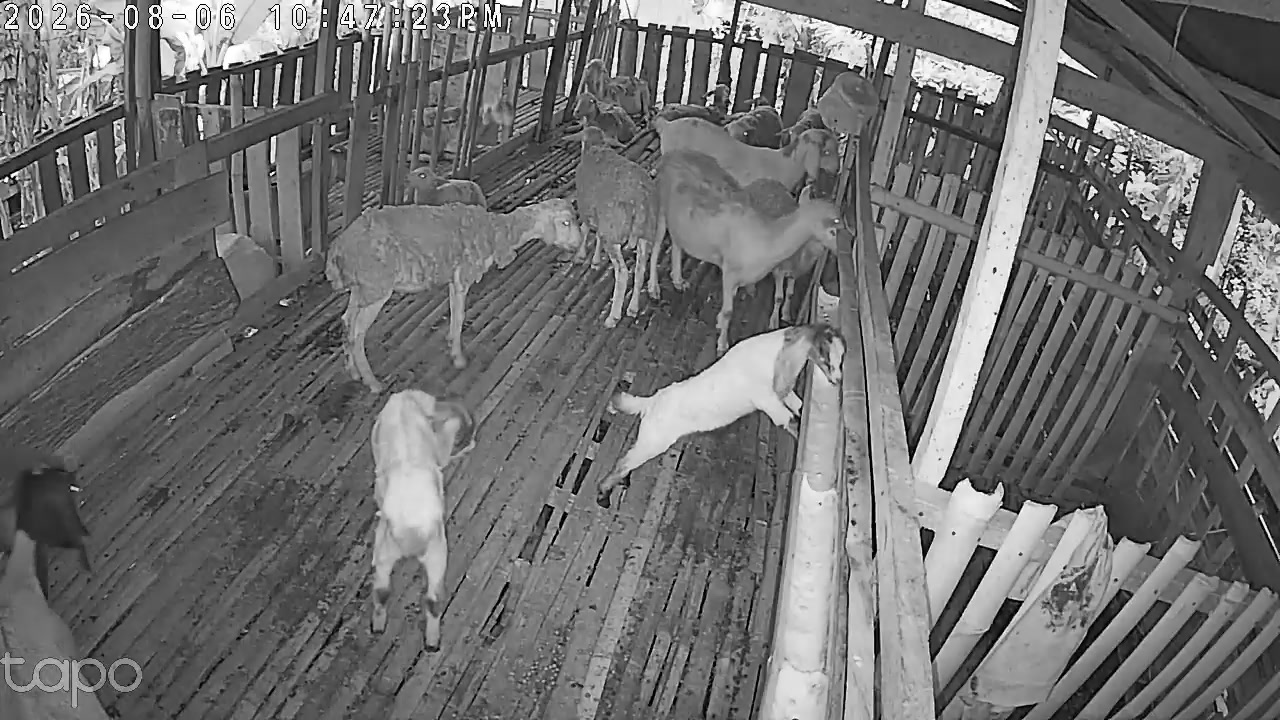goat: (367, 332, 487, 652), (556, 296, 780, 456), (0, 426, 80, 556)
sheep: (649, 159, 829, 359), (300, 166, 540, 316), (575, 120, 665, 320), (715, 100, 785, 180)
